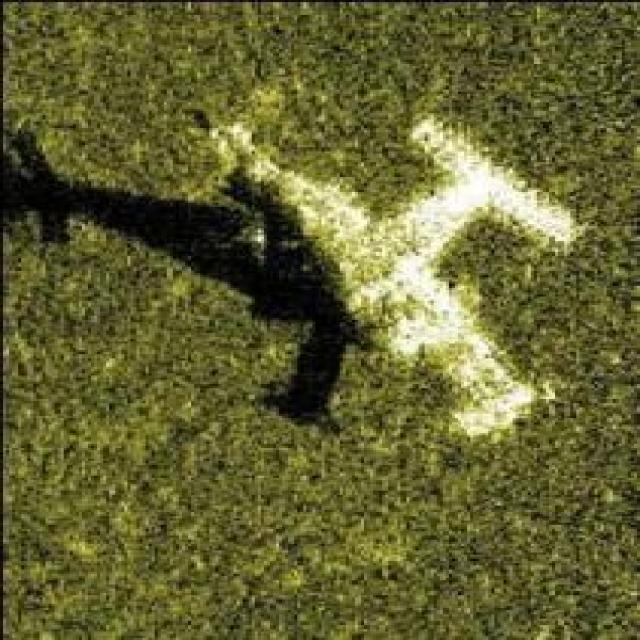plane: (203, 88, 598, 454)
